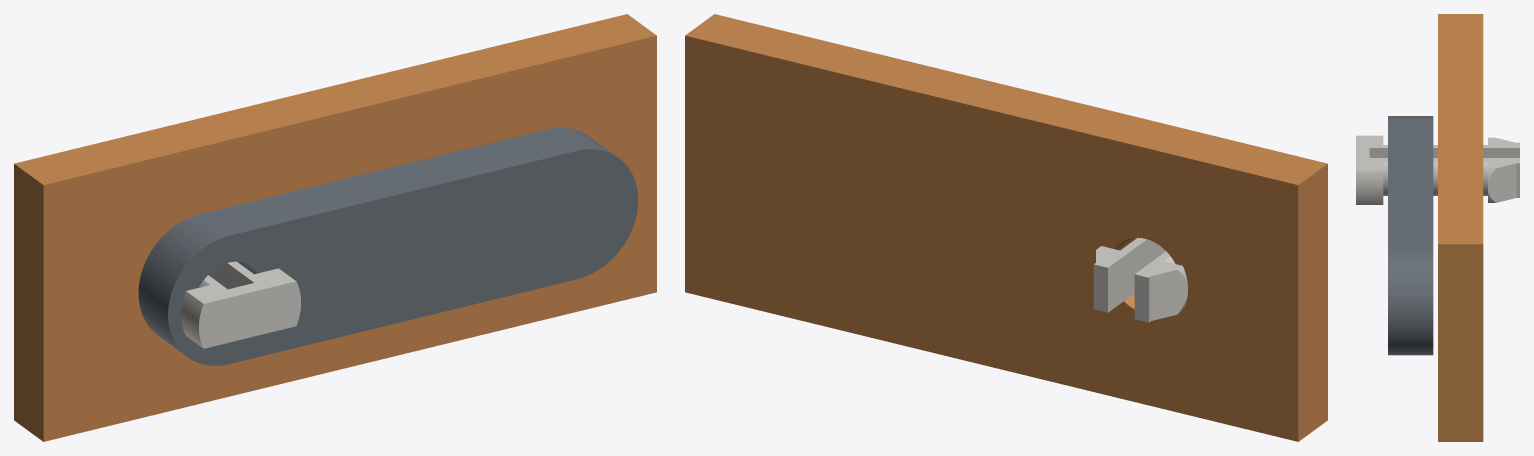
3 renders of one model, left to right at view 1: azimuth 30°, elevation 25°; view 2: azimuth 150°, elevation 25°; view 3: azimuth 270°, elevation 25°, orthographic. The views are drawn at different scales.
Visible parts, largest first — view 1: plaque, levier, goupille; view 2: plaque, goupille; view 3: plaque, levier, goupille.
Part boxes in pixels (x1,y1,x2,y2): plaque: (14,14,656,441); levier: (138,127,638,365); goupille: (181,261,300,348); plaque: (685,14,1327,441); goupille: (1093,237,1187,322); plaque: (1438,14,1483,441); levier: (1388,116,1433,355); goupille: (1356,135,1519,204).
Bounding box in the file's own units: 60 × 24 × 18.02.
